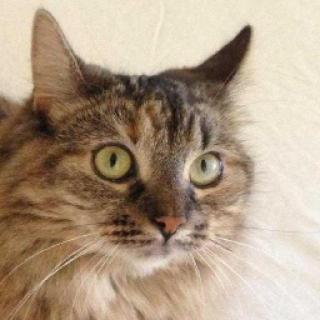cat: (27, 8, 257, 268)
nose: (146, 195, 191, 242)
